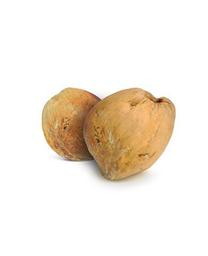coconut: (80, 88, 178, 183), (40, 87, 109, 163)
